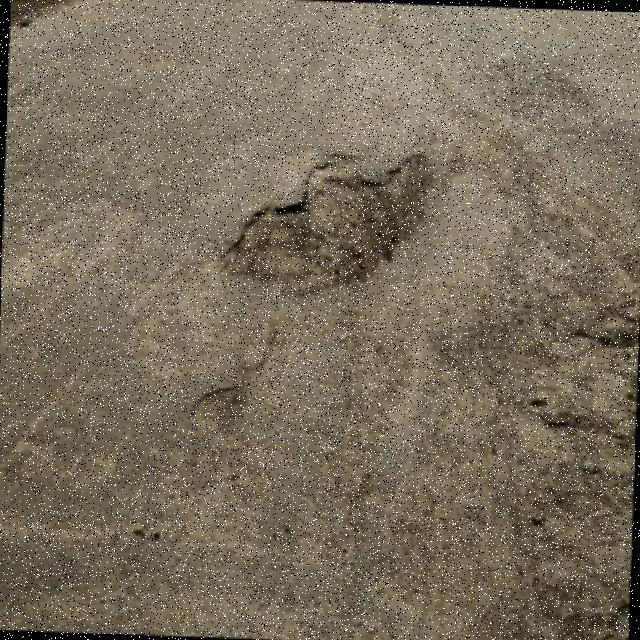Pothole: (218, 154, 435, 298)
